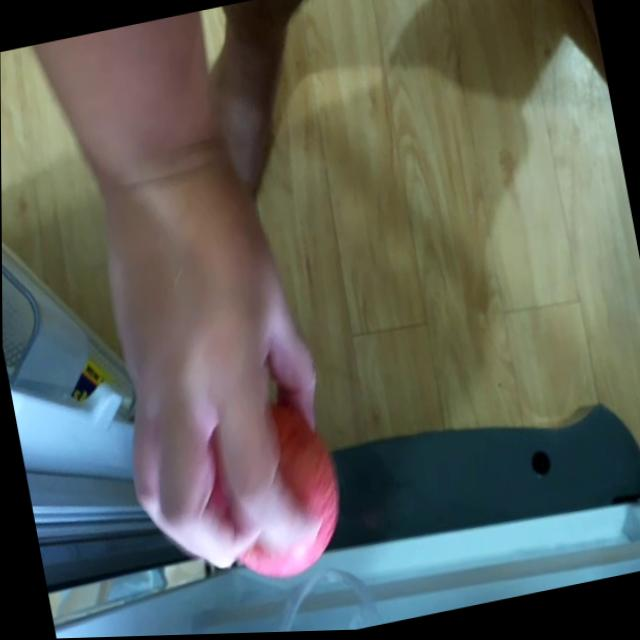apple: (190, 387, 354, 590)
